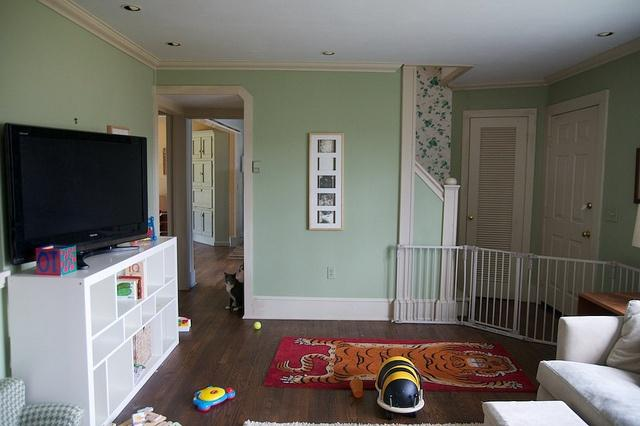AIO PC-Monitor-TV: (2, 120, 148, 269)
Rak: (83, 236, 180, 425)
